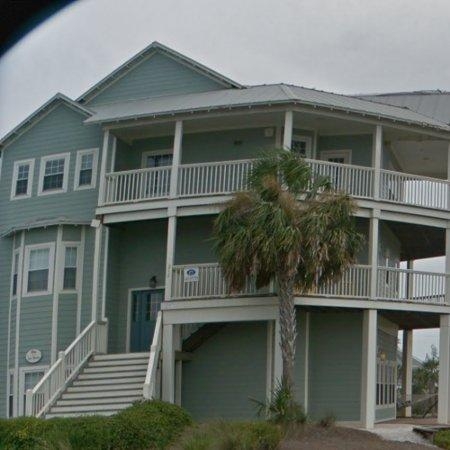stairs: (45, 355, 149, 419)
